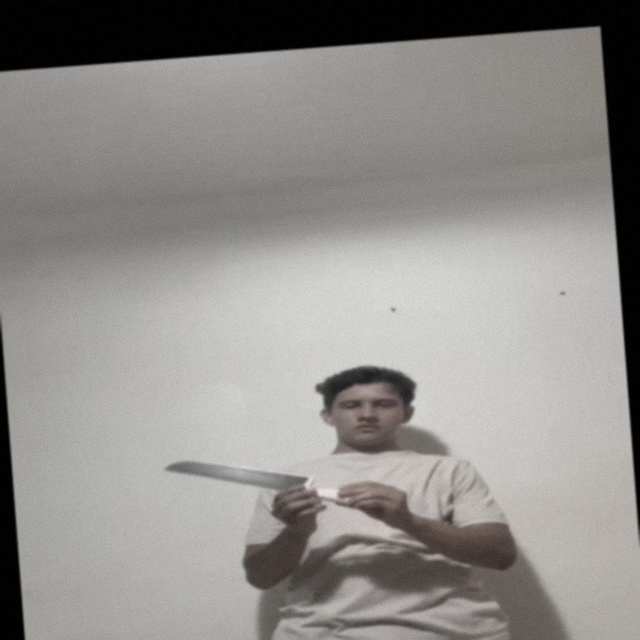Sharp-Object: (156, 450, 311, 495)
